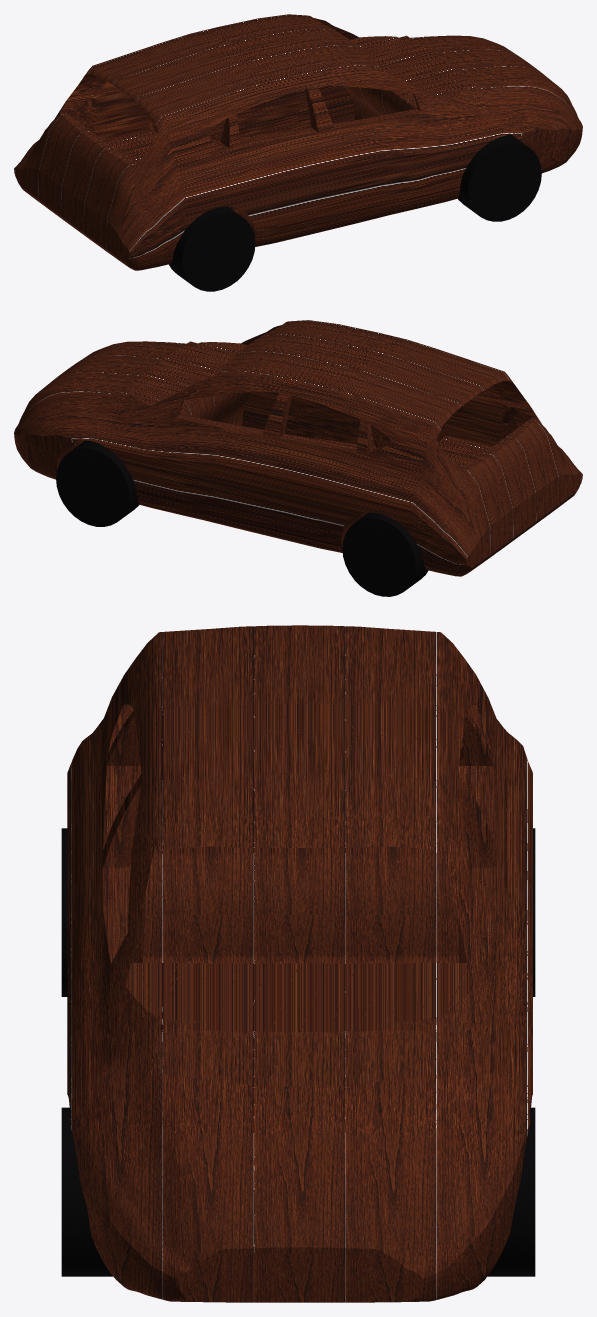
Rendered from vanligbil.fbx.
3 views of the same model, one above another, from view 1: azimuth 30°, elevation 25°; view 2: azimuth 150°, elevation 25°; view 3: azimuth 270°, elevation 25° (orthographic). The views are drawn at different scales.
Parts seen in each view (by area): view 1: kropp, fjul2, fjul3; view 2: kropp, fjul, fjul1; view 3: kropp, fjul2, fjul, fjul3.
Boxes of the visible parts, x1,y1,x2,y2 form: kropp: (14,14,582,270); fjul2: (457,134,541,221); fjul3: (169,206,255,291); kropp: (14,320,582,576); fjul: (56,440,139,526); fjul1: (342,512,428,596); kropp: (67,625,532,1302); fjul2: (61,1107,112,1276); fjul: (487,1107,535,1276); fjul3: (61,828,67,996).
Size of the model in its own units: 65.07 by 22.67 by 27.81.
2 materials, 2 textured.
